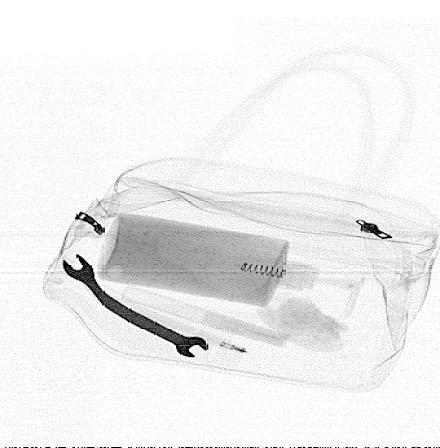Wrench: (62, 253, 209, 359)
